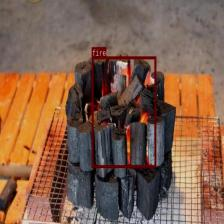fire: (91, 56, 156, 167)
